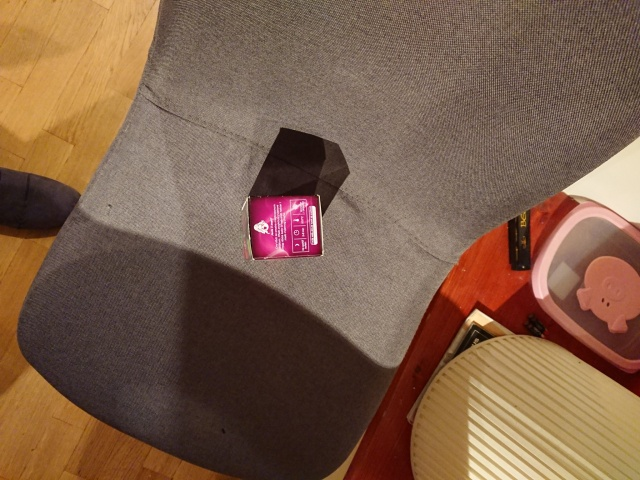Franck Black Currant Tea 60g: (238, 191, 328, 264)
